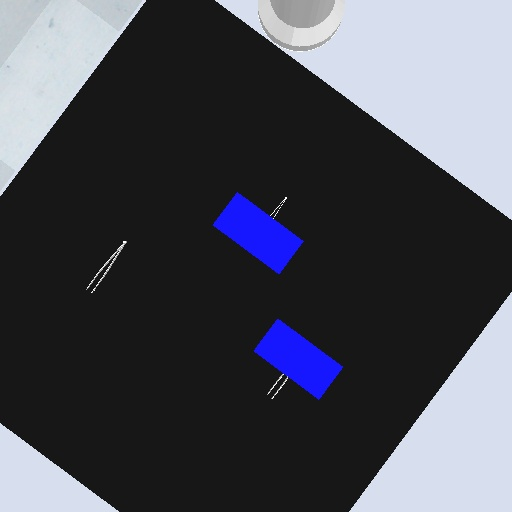pinza: (83, 238, 132, 297), (265, 371, 290, 403), (268, 195, 290, 222)
